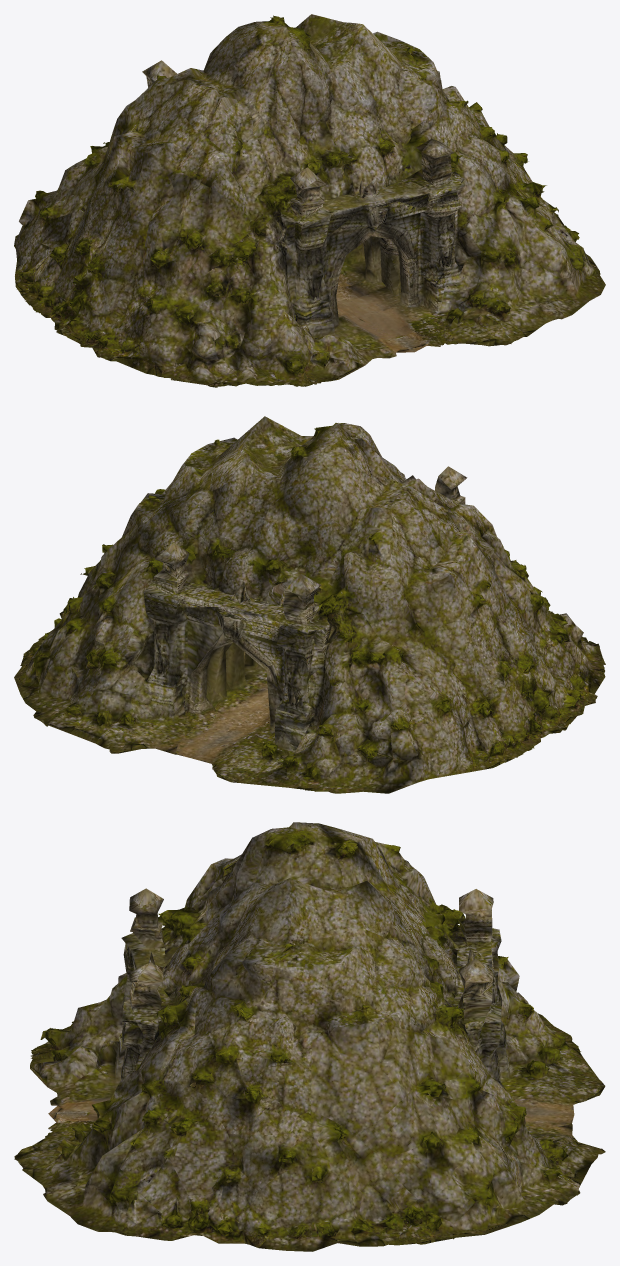
Rendered from mtn_gate.glb.
3 renders of one model, top to bottom at view 1: azimuth 30°, elevation 25°; view 2: azimuth 150°, elevation 25°; view 3: azimuth 270°, elevation 25°, orthographic. The views are drawn at different scales.
Visible parts, largest first — view 1: mtn_gate; view 2: mtn_gate; view 3: mtn_gate.
Part boxes in pixels (x1,y1,x2,y2): mtn_gate: [14, 14, 605, 387]; mtn_gate: [14, 416, 605, 793]; mtn_gate: [14, 822, 605, 1251].
Bounding box in the file's own units: 189 × 90.64 × 172.
1 material, 1 textured.
